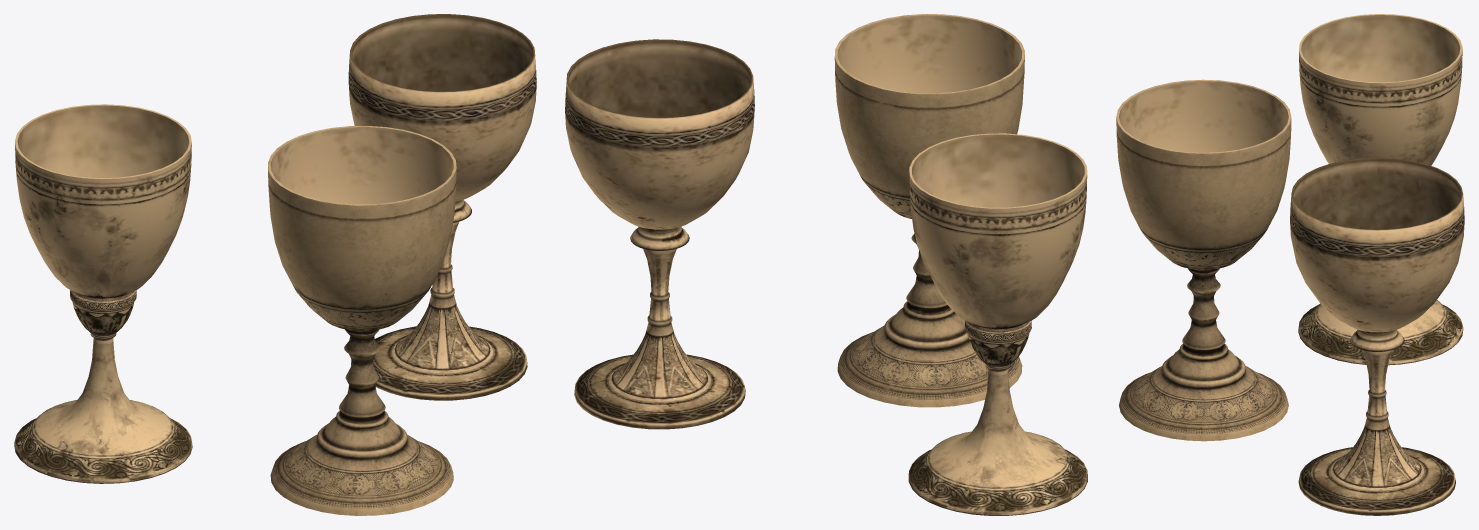
The model's file is brass_goblets.glb.
3 views of the same model, side by side, from view 1: azimuth 30°, elevation 25°; view 2: azimuth 150°, elevation 25°; view 3: azimuth 270°, elevation 25° (orthographic). The views are drawn at different scales.
Visible parts, largest first — view 1: brass_goblet_01, brass_goblet_02, brass_goblet_03; view 2: brass_goblet_02, brass_goblet_03, brass_goblet_01; view 3: brass_goblet_01, brass_goblet_03, brass_goblet_02.
Part boxes in pixels (left/top/right/bottom): brass_goblet_01: left=268, top=126, right=456, bottom=515; brass_goblet_02: left=14, top=104, right=192, bottom=483; brass_goblet_03: left=348, top=14, right=536, bottom=400; brass_goblet_02: left=908, top=133, right=1087, bottom=515; brass_goblet_03: left=565, top=39, right=754, bottom=429; brass_goblet_01: left=834, top=14, right=1024, bottom=407; brass_goblet_01: left=1116, top=79, right=1291, bottom=441; brass_goblet_03: left=1290, top=157, right=1464, bottom=515; brass_goblet_02: left=1298, top=14, right=1463, bottom=365.
Bounding box in the file's own units: 0.4534 × 0.2734 × 0.2976.
3 materials, 3 textured.
